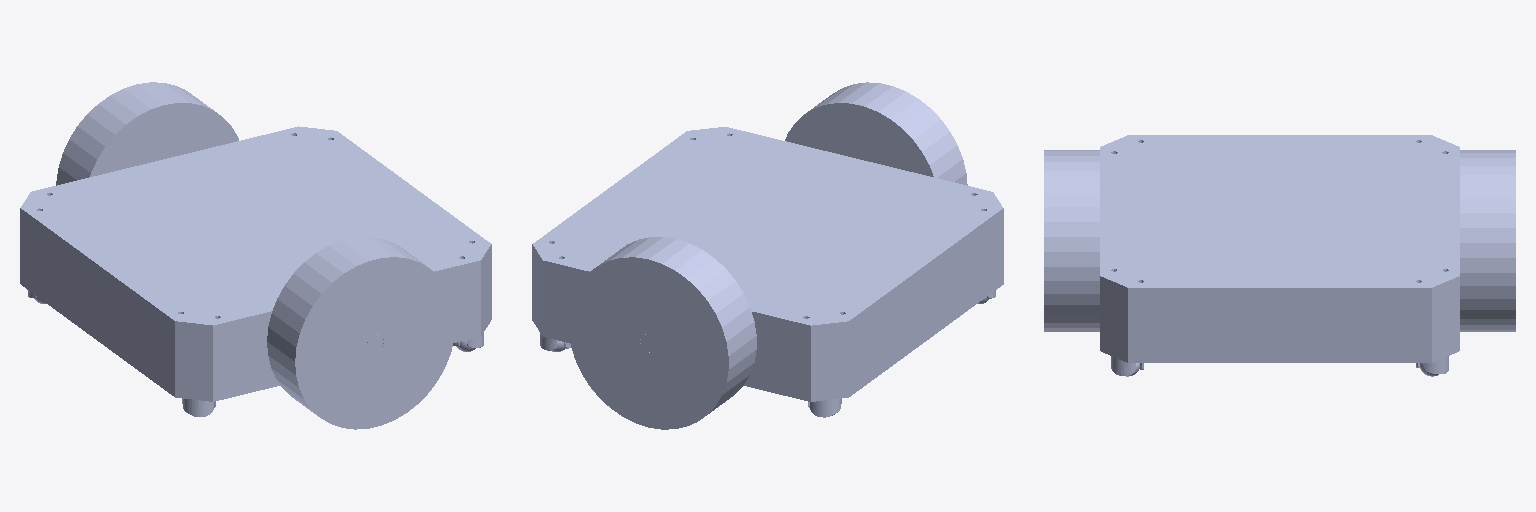
The robot description file, URDF, robot "diff_robot_chulu_v2_1":
<?xml version="1.0" encoding="utf-8"?>
<!-- This URDF was automatically created by SolidWorks to URDF Exporter! Originally created by [author] ([email redacted]) 
     Commit Version: 1.6.0-4-g7f85cfe  Build Version: 1.6.7995.38578
     For more information, please see http://wiki.ros.org/sw_urdf_exporter -->
<robot
  name="diff_robot_chulu_v2_1">
  <link
    name="base_link">
    <inertial>
      <origin
        xyz="1.50455504081341E-07 1.47788578496056E-07 -0.0151030876530591"
        rpy="0 0 0" />
      <mass
        value="0.504564249835671" />
      <inertia
        ixx="0.000734338638391148"
        ixy="-6.75102431697225E-20"
        ixz="2.47895780960543E-10"
        iyy="0.000725633025312158"
        iyz="2.45092924297386E-10"
        izz="0.00138504235733951" />
    </inertial>
    <visual>
      <origin
        xyz="0 0 0"
        rpy="0 0 0" />
      <geometry>
        <mesh
          filename="package://diff_robot_chulu_v2_1/meshes/base_link.STL" />
      </geometry>
      <material
        name="">
        <color
          rgba="0.792156862745098 0.819607843137255 0.933333333333333 1" />
      </material>
    </visual>
    <collision>
      <origin
        xyz="0 0 0"
        rpy="0 0 0" />
      <geometry>
        <mesh
          filename="package://diff_robot_chulu_v2_1/meshes/base_link.STL" />
      </geometry>
    </collision>
  </link>
  <link
    name="right_wheel_Link">
    <inertial>
      <origin
        xyz="-1.94382582532725E-19 -0.01 0"
        rpy="0 0 0" />
      <mass
        value="0.0676541977950615" />
      <inertia
        ixx="2.08811862569563E-05"
        ixy="6.83802639710503E-23"
        ixz="6.05332495559249E-22"
        iyy="3.72520926609085E-05"
        iyz="5.55865371635635E-22"
        izz="2.08811862569563E-05" />
    </inertial>
    <visual>
      <origin
        xyz="0 0 0"
        rpy="0 0 0" />
      <geometry>
        <mesh
          filename="package://diff_robot_chulu_v2_1/meshes/right_wheel_Link.STL" />
      </geometry>
      <material
        name="">
        <color
          rgba="0.792156862745098 0.819607843137255 0.933333333333333 1" />
      </material>
    </visual>
    <collision>
      <origin
        xyz="0 0 0"
        rpy="0 0 0" />
      <geometry>
        <mesh
          filename="package://diff_robot_chulu_v2_1/meshes/right_wheel_Link.STL" />
      </geometry>
    </collision>
  </link>
  <joint
    name="right_wheel_Joint"
    type="continuous">
    <origin
      xyz="0 -0.065 -0.01175"
      rpy="0 0 0" />
    <parent
      link="base_link" />
    <child
      link="right_wheel_Link" />
    <axis
      xyz="0 -1 0" />
    <limit
      lower="0"
      upper="0"
      effort="30"
      velocity="30" />
  </joint>
  <link
    name="left_wheel_Link">
    <inertial>
      <origin
        xyz="-4.87612696953907E-19 0.00999999999999998 0"
        rpy="0 0 0" />
      <mass
        value="0.0676541977950615" />
      <inertia
        ixx="2.08811862569563E-05"
        ixy="-4.41162993361645E-24"
        ixz="-6.95527924893442E-21"
        iyy="3.72520926609085E-05"
        iyz="8.82325986723246E-24"
        izz="2.08811862569563E-05" />
    </inertial>
    <visual>
      <origin
        xyz="0 0 0"
        rpy="0 0 0" />
      <geometry>
        <mesh
          filename="package://diff_robot_chulu_v2_1/meshes/left_wheel_Link.STL" />
      </geometry>
      <material
        name="">
        <color
          rgba="0.792156862745098 0.819607843137255 0.933333333333333 1" />
      </material>
    </visual>
    <collision>
      <origin
        xyz="0 0 0"
        rpy="0 0 0" />
      <geometry>
        <mesh
          filename="package://diff_robot_chulu_v2_1/meshes/left_wheel_Link.STL" />
      </geometry>
    </collision>
  </link>
  <joint
    name="left_wheel_Joint"
    type="continuous">
    <origin
      xyz="0 0.065 -0.01175"
      rpy="0 0 0" />
    <parent
      link="base_link" />
    <child
      link="left_wheel_Link" />
    <axis
      xyz="0 -1 0" />
    <limit
      lower="0"
      upper="0"
      effort="30"
      velocity="30" />
  </joint>
</robot>

--- What the picture shows (computed from the rendered views, not written in the file) ---
The picture shows the robot from 3 angles, left to right: view 1: azimuth 30°, elevation 25°; view 2: azimuth 150°, elevation 25°; view 3: azimuth 270°, elevation 25°; orthographic projection.
Model diff_robot_chulu_v2_1 with 3 links and 2 joints (2 continuous), rooted at base_link, posed every joint at zero.
Visible links, largest first — view 1: base_link, right_wheel_Link, left_wheel_Link; view 2: base_link, left_wheel_Link, right_wheel_Link; view 3: base_link, right_wheel_Link, left_wheel_Link.
Link boxes in pixels (x1,y1,x2,y2): base_link: [20, 126, 491, 416]; right_wheel_Link: [267, 237, 455, 429]; left_wheel_Link: [56, 82, 238, 185]; base_link: [532, 127, 1003, 417]; left_wheel_Link: [568, 237, 756, 429]; right_wheel_Link: [785, 82, 967, 185]; base_link: [1100, 135, 1459, 376]; right_wheel_Link: [1044, 150, 1099, 331]; left_wheel_Link: [1460, 150, 1515, 331].
Bounding box of the posed robot: 0.13 × 0.17 × 0.066 m (x, y, z).
Meshes: 3 distinct files referenced, 3 mesh visuals loaded (3 binary STL).